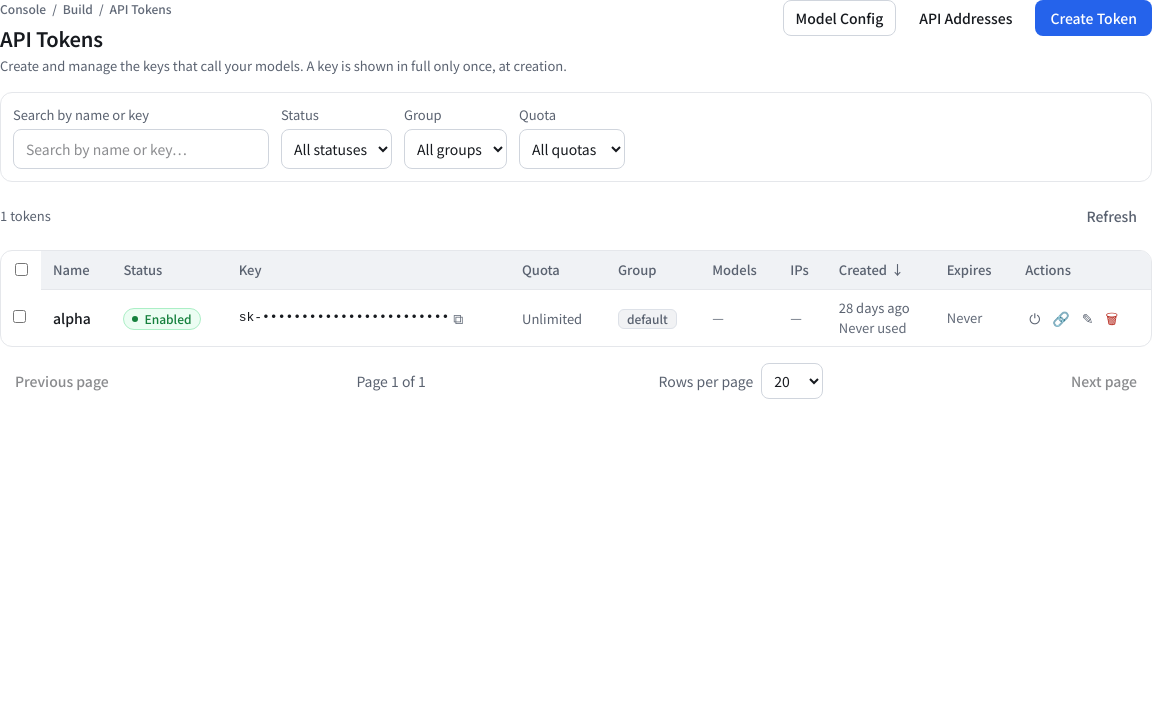
Test case: token creation › creates a single token and reveals its key exactly once
This screenshot has width=1152, height=720.
Expected: the text "alpha" is shown, x1=41 y1=289 x2=111 y2=346
Click the button "Create Token".
click(1094, 18)  # box x1=1035 y1=0 x2=1151 y2=36
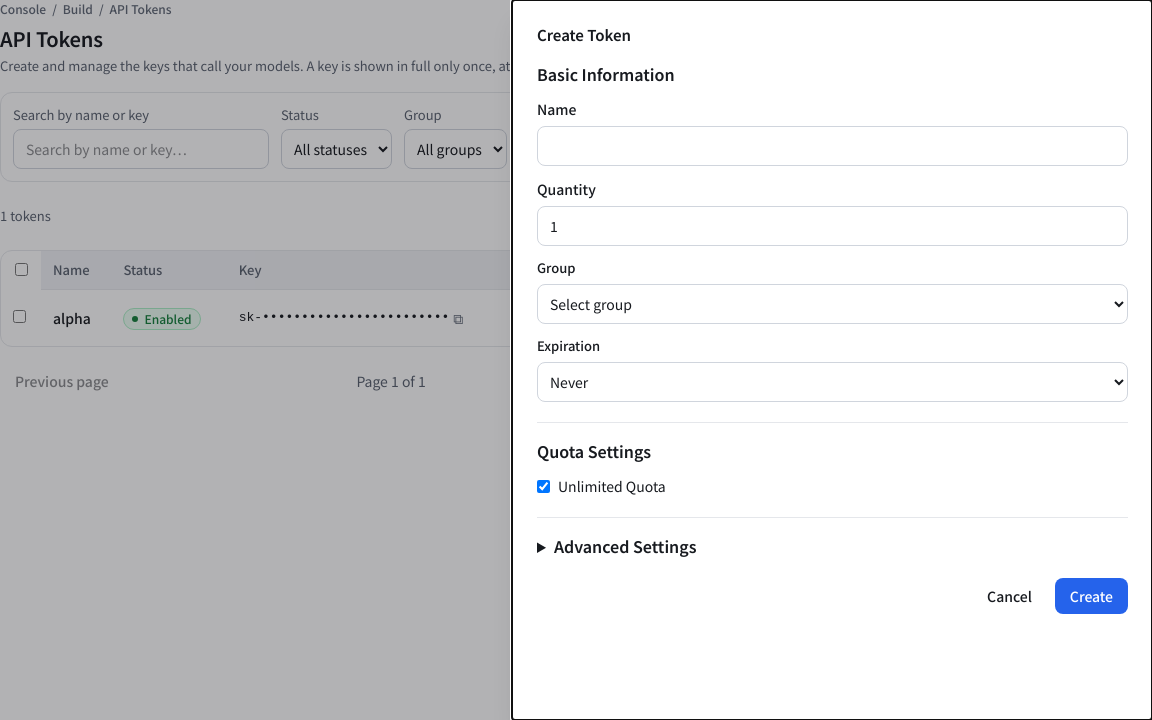
Type "my-token" into the field labelled "Name".
click(832, 146); type("my-token")  # box x1=537 y1=126 x2=1128 y2=166
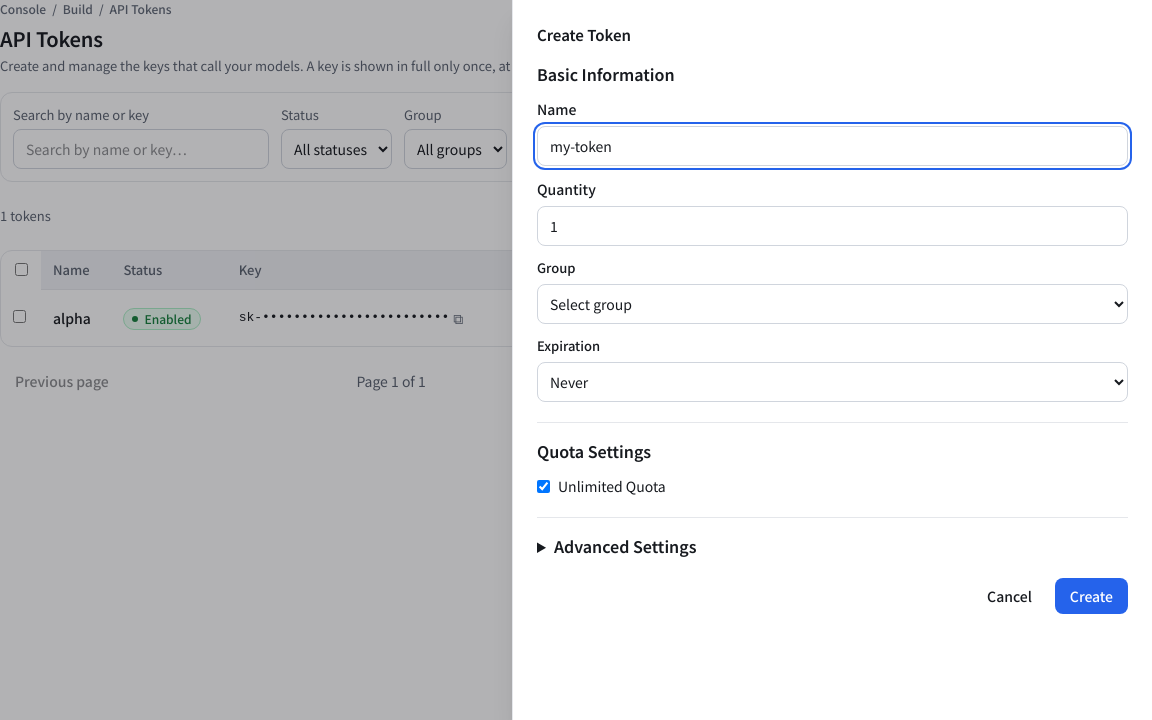
Click the button "Create".
click(1091, 596)  # box x1=1055 y1=578 x2=1128 y2=614
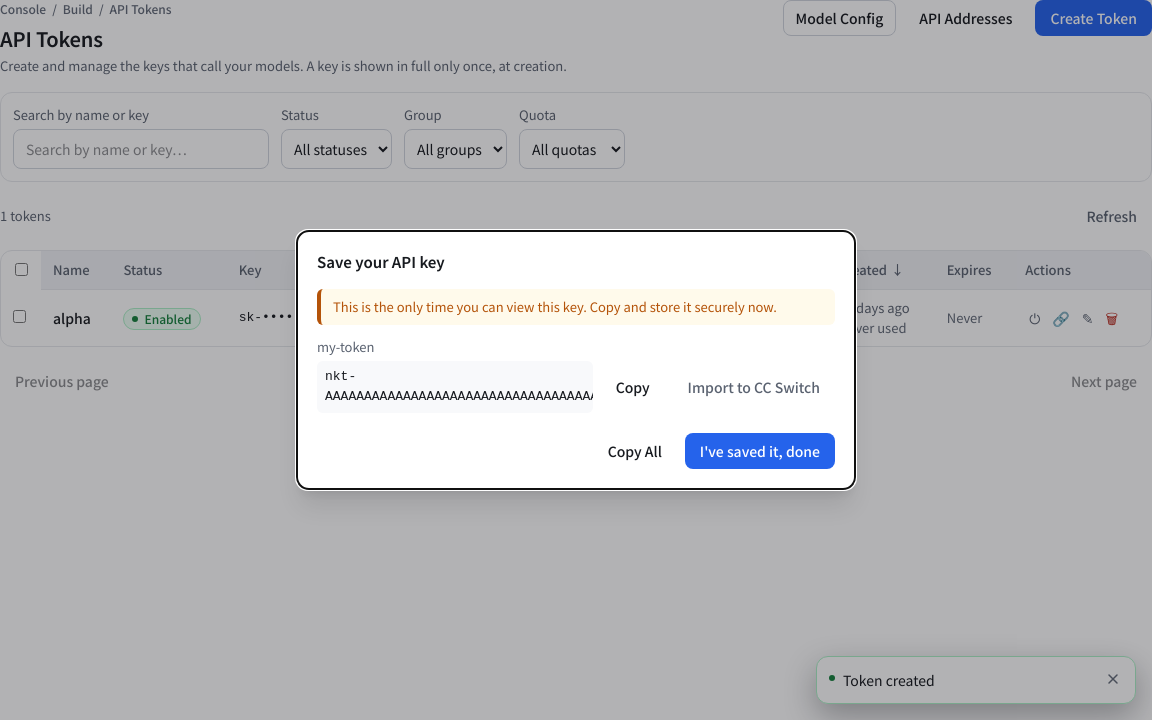
Result: the text "This is the only time you can view this key" is shown at x1=333 y1=297 x2=777 y2=316
Click the button "I've saved it, done".
click(760, 451)  # box x1=685 y1=433 x2=835 y2=469
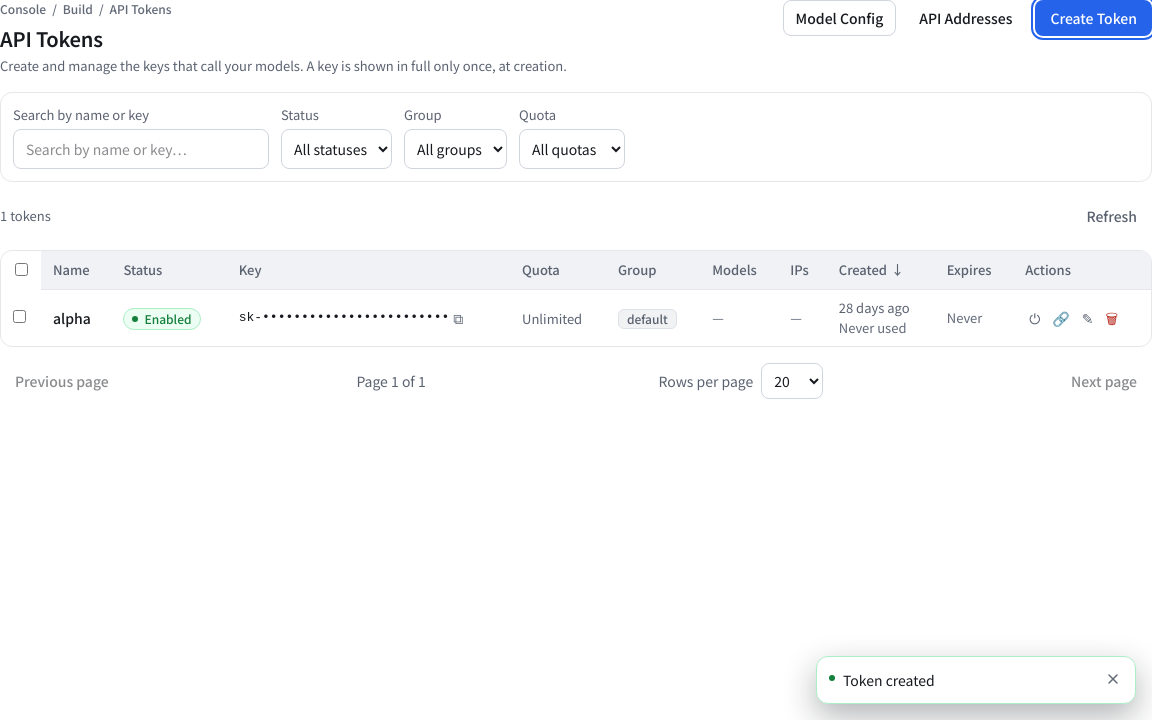
Result: the heading "Save your API key" is gone
